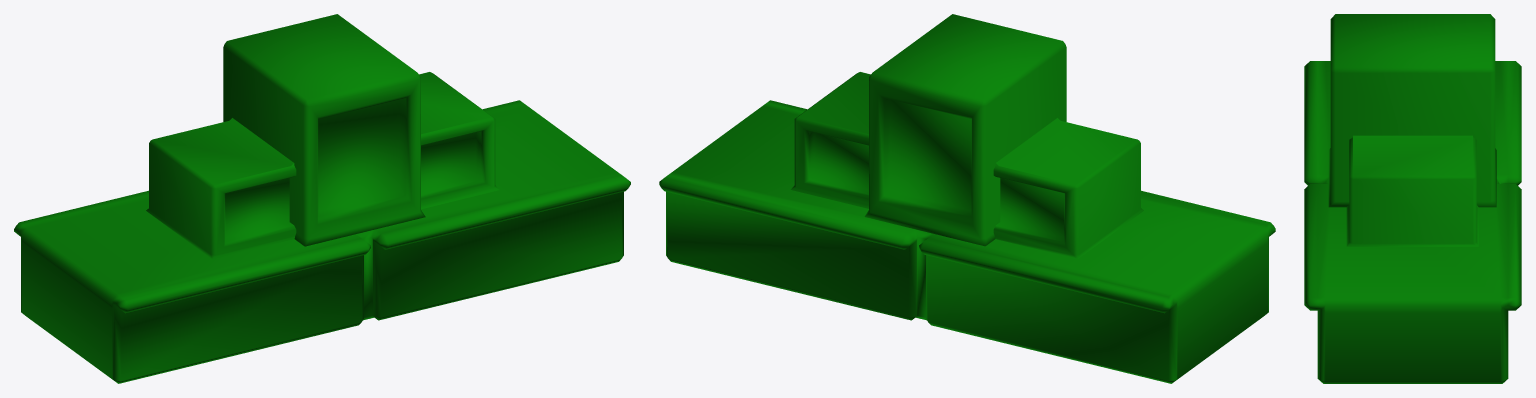
Rendered from W1_Merlon.fbx.
3 renders of one model, left to right at view 1: azimuth 30°, elevation 25°; view 2: azimuth 150°, elevation 25°; view 3: azimuth 270°, elevation 25°, orthographic. The views are drawn at different scales.
Parts seen in each view (by area): view 1: W1_Merlons; view 2: W1_Merlons; view 3: W1_Merlons.
Boxes of the visible parts, box(x1,y1,x2,y2) form: W1_Merlons: box(14, 14, 630, 383); W1_Merlons: box(659, 14, 1275, 383); W1_Merlons: box(1304, 14, 1521, 383).
Size of the model in its own units: 300 by 131 by 114.
